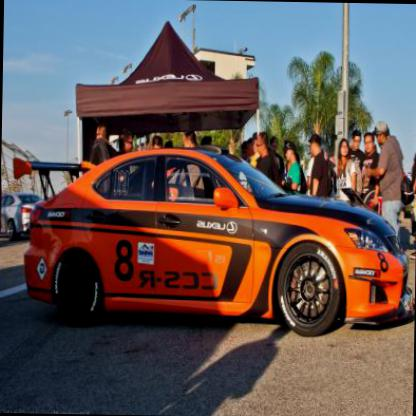car: (18, 140, 415, 341), (1, 190, 42, 240)
